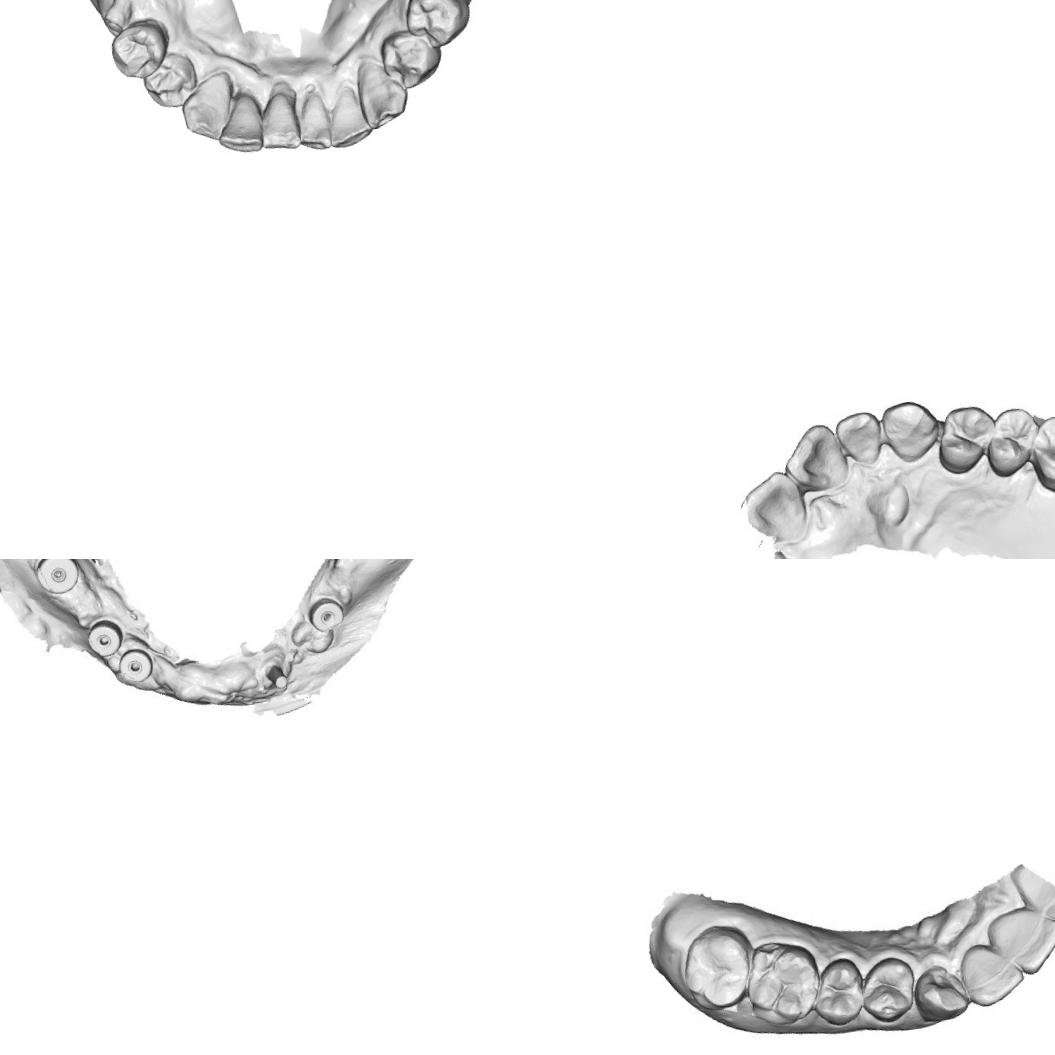abutment: (262, 662, 288, 690)
canine: (174, 68, 242, 148), (350, 54, 414, 135), (910, 960, 972, 1026), (884, 398, 937, 460)
implant: (32, 559, 82, 597), (84, 616, 125, 660), (305, 594, 347, 634), (115, 646, 156, 686)
incisor: (739, 465, 814, 555), (779, 418, 854, 503), (983, 901, 1055, 979), (956, 938, 1028, 1010), (210, 87, 272, 162), (252, 82, 310, 158), (320, 79, 378, 154), (288, 84, 341, 158), (832, 405, 887, 466)
molar: (676, 920, 762, 1015), (740, 935, 826, 1030), (1023, 406, 1055, 501)
premolar: (926, 401, 1001, 478), (105, 14, 176, 88), (374, 24, 448, 94), (977, 404, 1043, 482), (806, 955, 869, 1030), (856, 953, 920, 1026), (136, 48, 201, 116), (398, 0, 475, 54)
